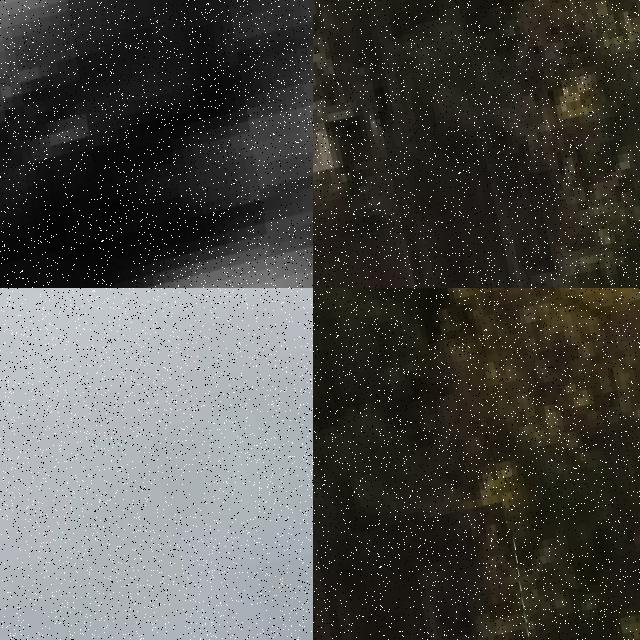drone: (0, 0, 313, 288), (313, 501, 556, 640)
